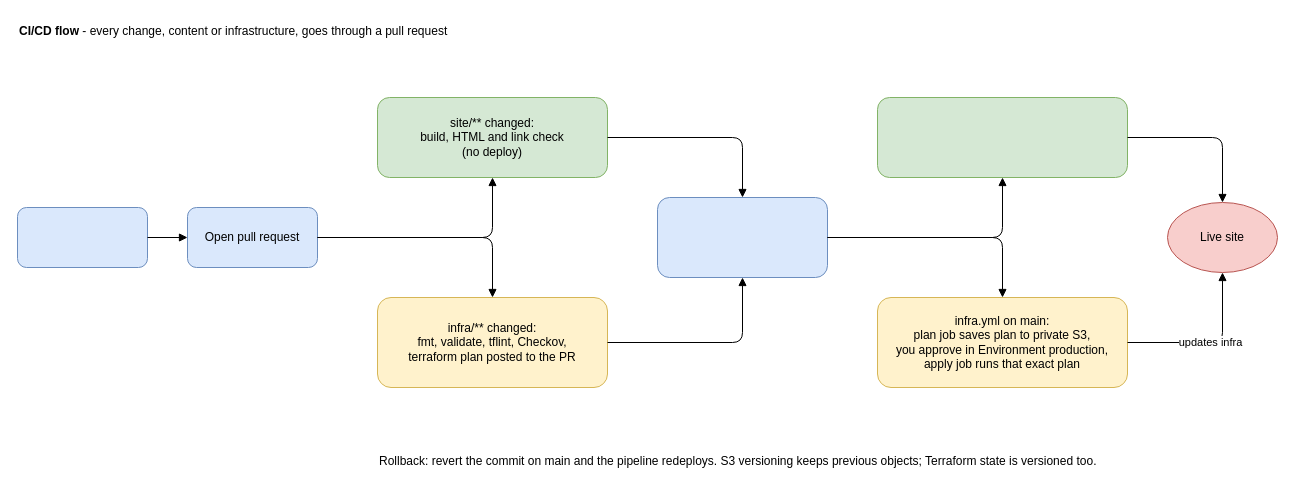
The diagram is 1295 pixels wide and 504 high, and some of its shapes have lost their labels. The shapes that lost their labels are listed below. From the top down, each one's centre as x and y in pixels, then its label:
At point 1002,137: "deploy-site.yml (site-deploy role): build, s3 sync, CloudFront invalidation".
At point 82,237: "Edit in a branch".
At point 742,237: "Review + merge to main (branch protection: checks must pass)".
